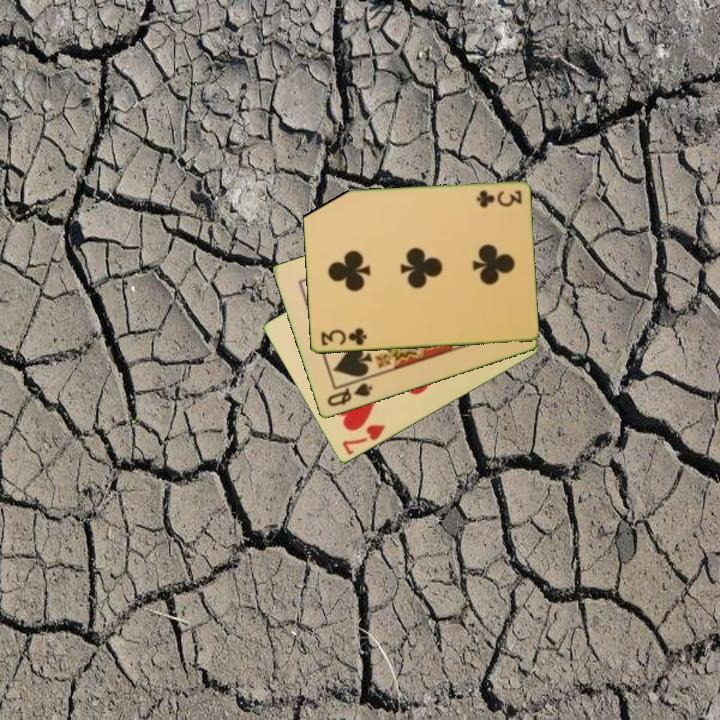3c: (317, 325, 369, 349), (472, 187, 524, 209)
7h: (338, 421, 389, 458)
Qs: (323, 380, 375, 410)
